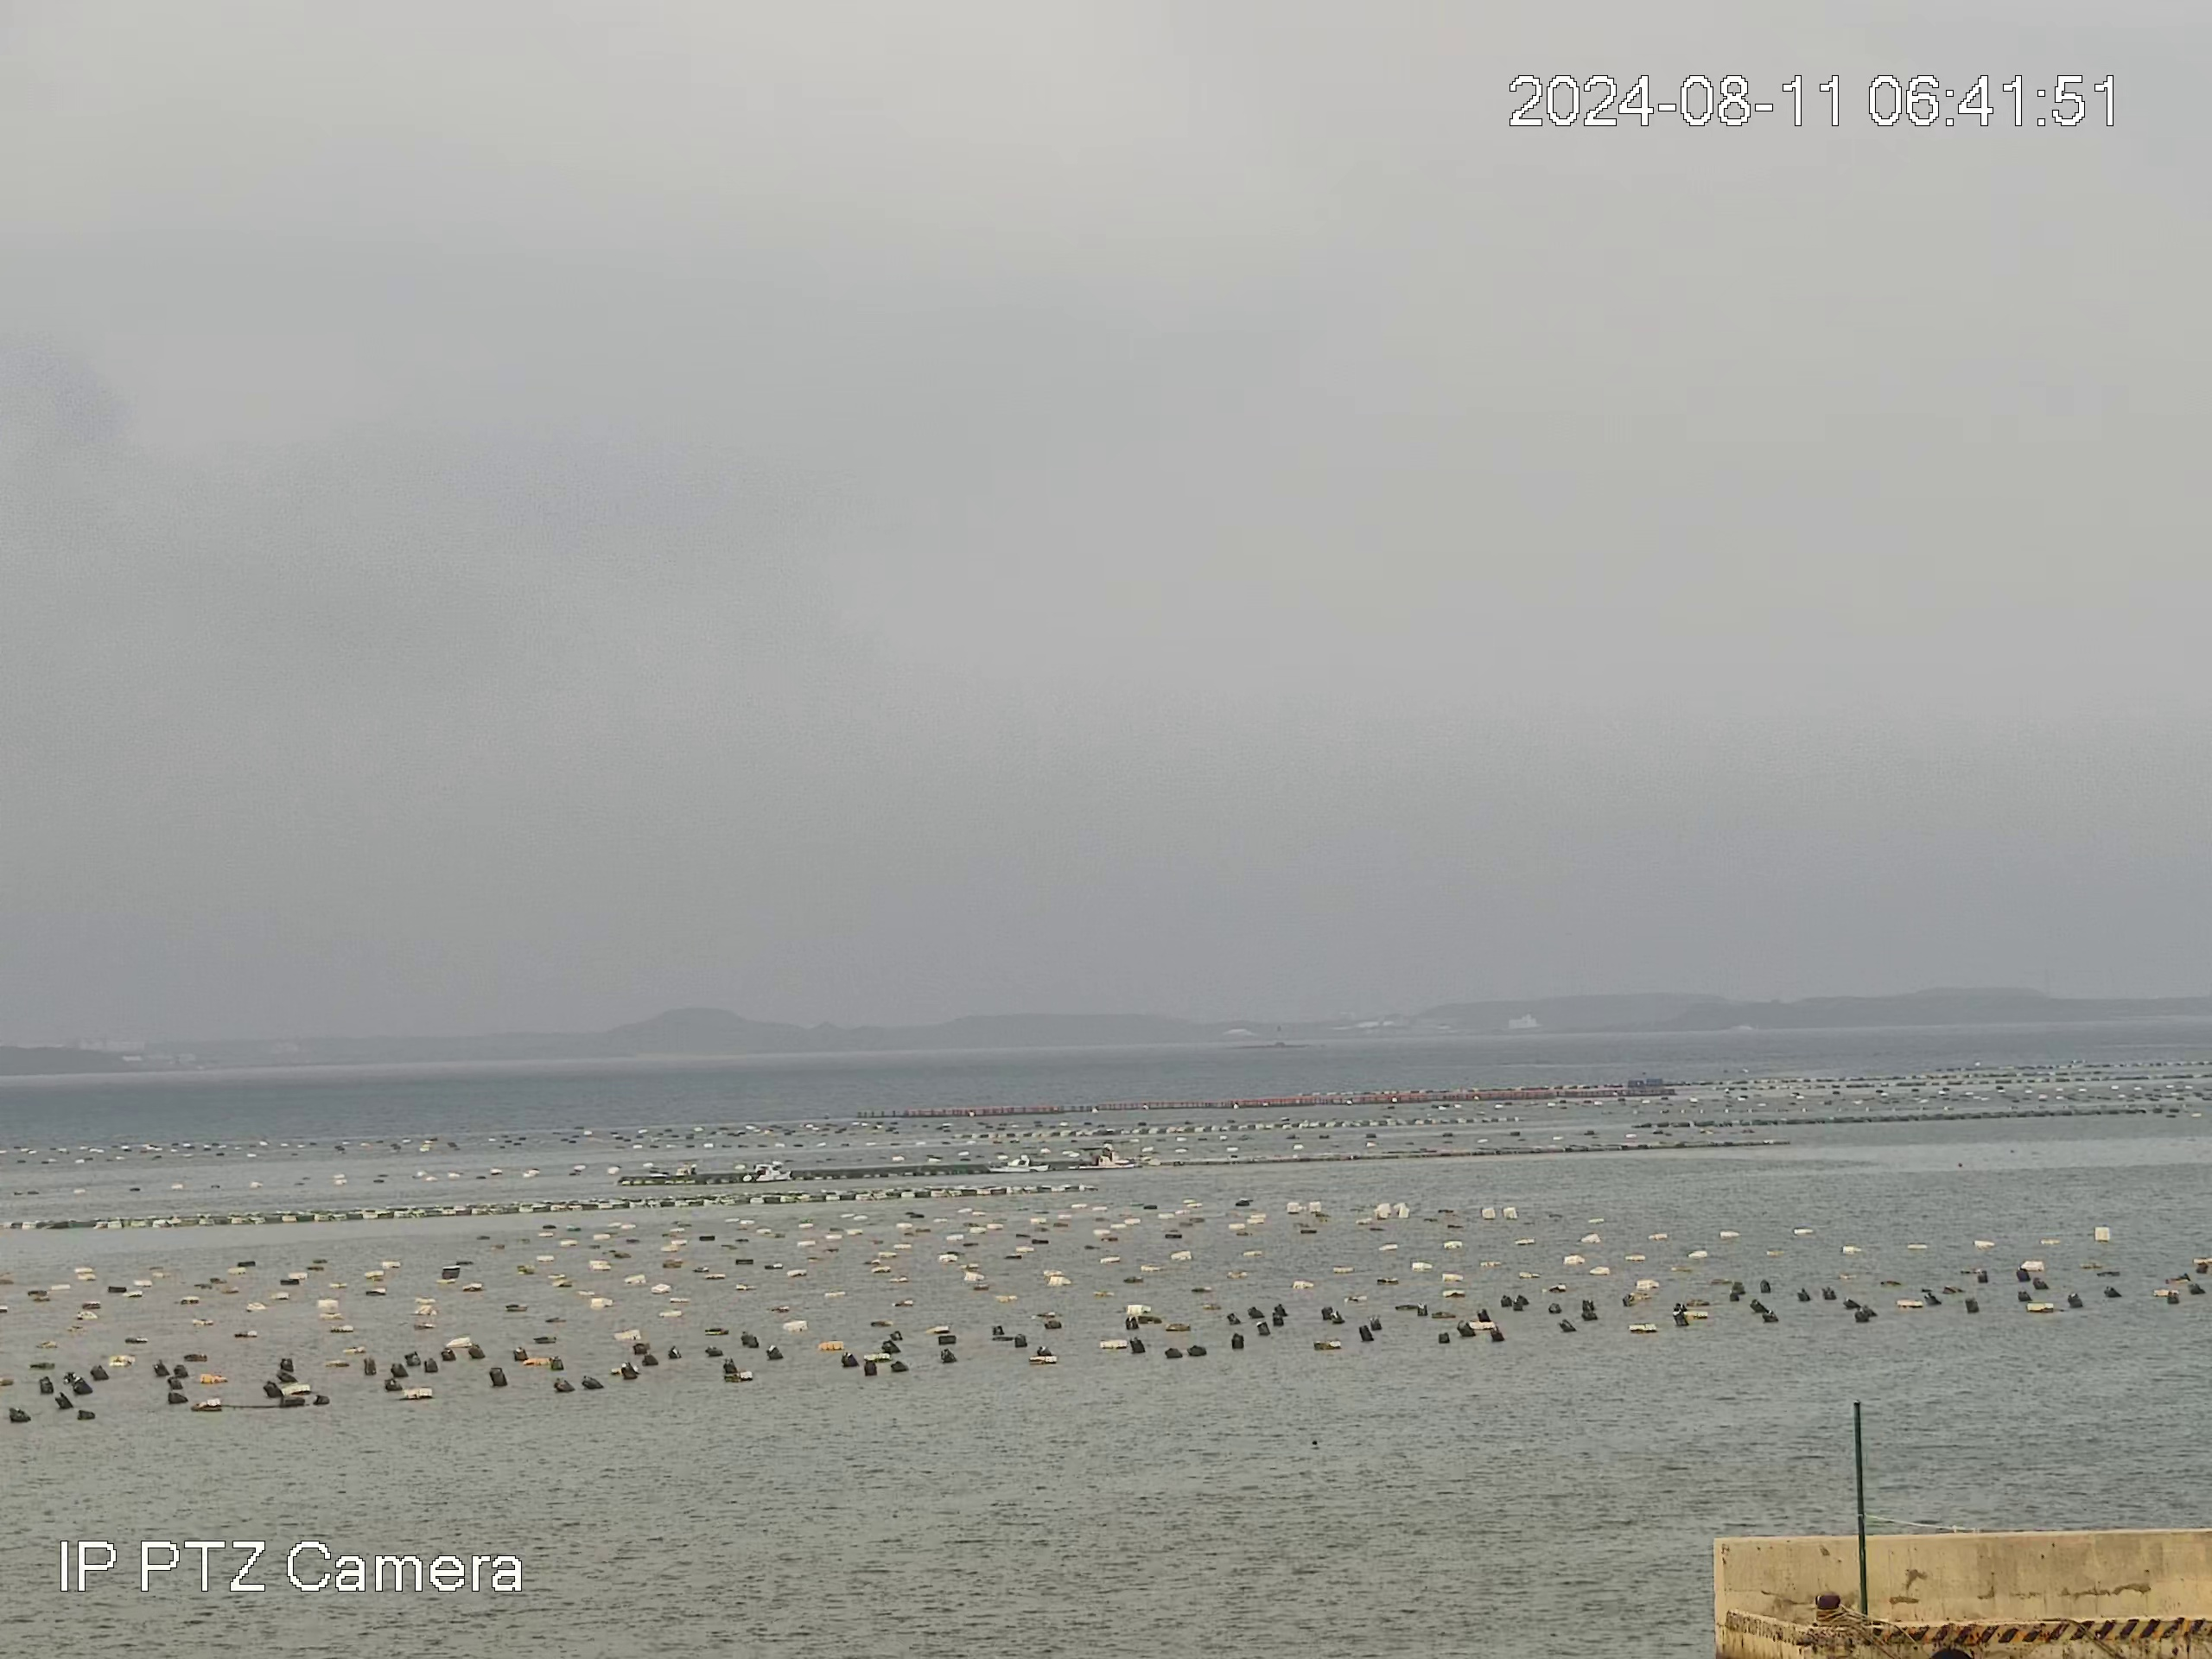boat: (984, 1154, 1050, 1175), (1066, 1152, 1122, 1173), (740, 1162, 791, 1183)
